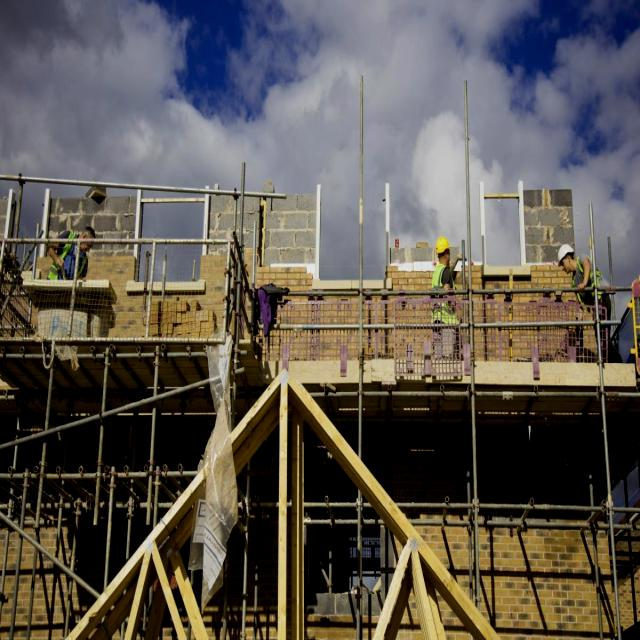hand_noglove: (52, 251, 66, 276), (576, 274, 588, 298)
head_helmet: (557, 244, 573, 264), (435, 234, 450, 254)
head_nohelmet: (84, 211, 98, 249)
person: (559, 243, 622, 362), (430, 232, 464, 360), (48, 216, 96, 283)
vest: (432, 264, 459, 328)
